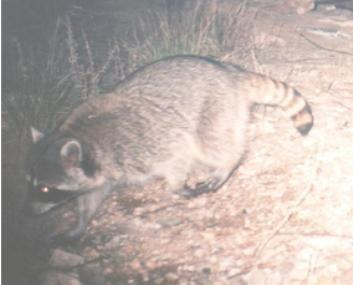raccoon: (23, 52, 315, 245)
